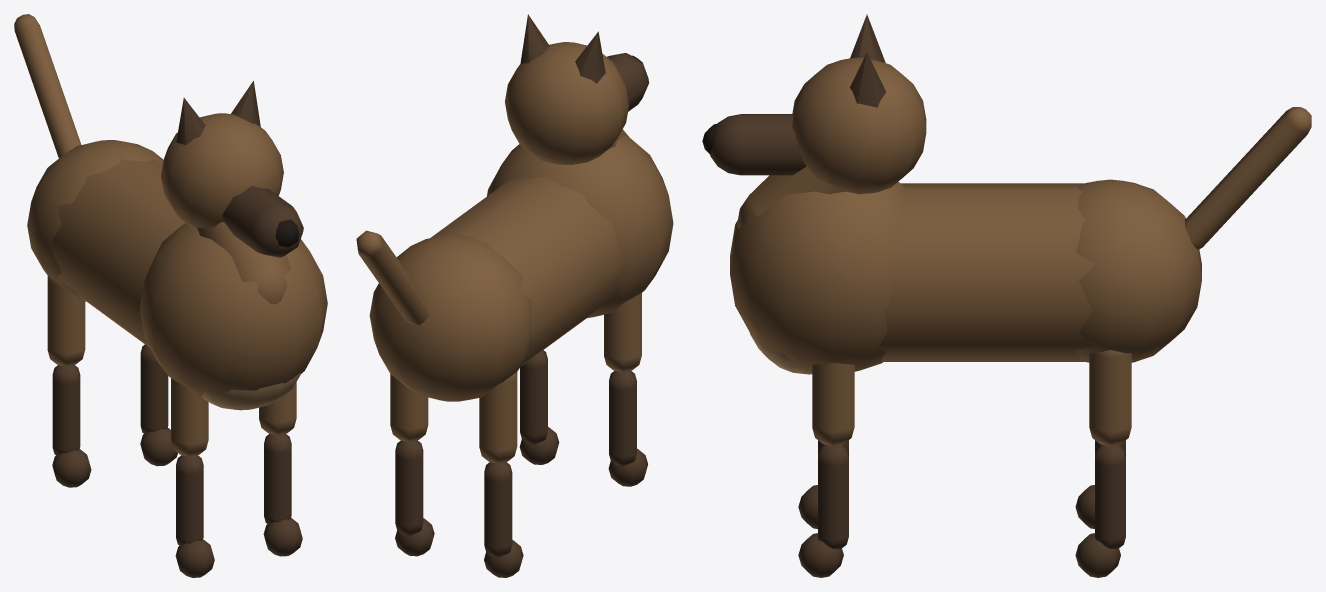
The model's file is scout_dog.glb.
The picture shows the model from 3 angles, left to right: view 1: azimuth 30°, elevation 25°; view 2: azimuth 150°, elevation 25°; view 3: azimuth 270°, elevation 25°; orthographic projection. The views are drawn at different scales.
Parts seen in each view (by area): view 1: part_1, part_0, part_5, part_2, part_22, part_6, part_16, part_4, part_17, part_10, part_14, part_11 (+10 smaller); view 2: part_2, part_0, part_1, part_5, part_22, part_16, part_20, part_17, part_11, part_10, part_14, part_19 (+7 smaller); view 3: part_0, part_1, part_2, part_5, part_22, part_6, part_19, part_13, part_14, part_20, part_4, part_15 (+3 smaller).
Part boxes in pixels (bbox=[...]): part_1: bbox=[139, 223, 327, 398]; part_0: bbox=[49, 158, 184, 347]; part_5: bbox=[161, 113, 283, 228]; part_2: bbox=[27, 140, 163, 301]; part_22: bbox=[14, 14, 81, 157]; part_6: bbox=[222, 186, 303, 257]; part_16: bbox=[47, 276, 85, 366]; part_4: bbox=[197, 222, 293, 304]; part_17: bbox=[52, 365, 80, 455]; part_10: bbox=[171, 378, 208, 456]; part_14: bbox=[264, 433, 291, 524]; part_11: bbox=[176, 455, 203, 545]; part_2: bbox=[369, 234, 531, 401]; part_0: bbox=[430, 176, 624, 365]; part_1: bbox=[487, 136, 673, 318]; part_5: bbox=[505, 42, 628, 164]; part_22: bbox=[356, 230, 429, 325]; part_16: bbox=[479, 372, 517, 463]; part_20: bbox=[395, 440, 423, 535]; part_17: bbox=[484, 462, 512, 557]; part_11: bbox=[609, 370, 636, 466]; part_10: bbox=[604, 293, 641, 372]; part_14: bbox=[520, 350, 547, 444]; part_19: bbox=[390, 374, 428, 442]; part_0: bbox=[879, 183, 1095, 361]; part_1: bbox=[730, 181, 905, 371]; part_2: bbox=[1076, 179, 1201, 362]; part_5: bbox=[792, 57, 926, 194]; part_22: bbox=[1185, 107, 1311, 249]; part_6: bbox=[710, 114, 806, 175]; part_19: bbox=[1089, 350, 1131, 446]; part_13: bbox=[812, 363, 854, 446]; part_14: bbox=[818, 444, 848, 549]; part_20: bbox=[1095, 444, 1125, 549]; part_4: bbox=[737, 167, 844, 228]; part_15: bbox=[798, 533, 843, 577].
Size of the model in its own units: 0.26 by 0.7022 by 0.7475.
